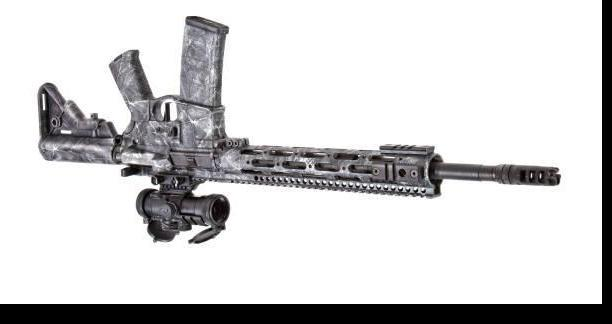larga: (36, 16, 561, 244)
